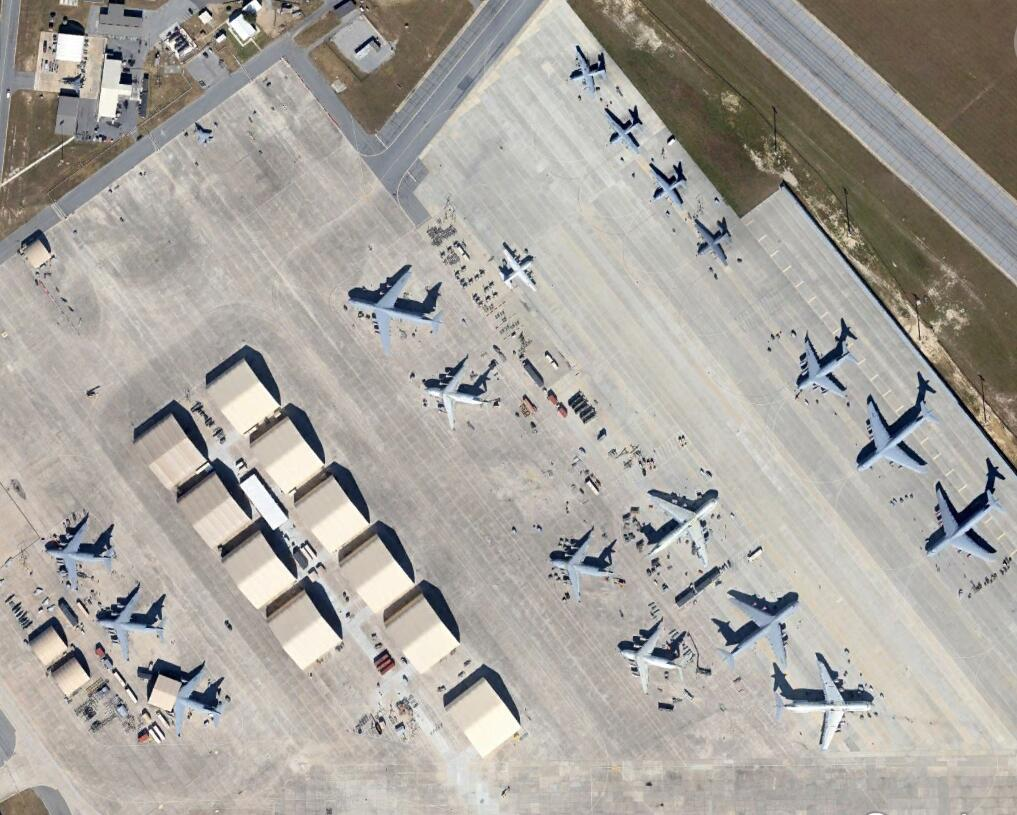A13: (56, 73, 86, 94), (193, 121, 215, 146)
A2: (568, 45, 610, 101), (691, 216, 734, 269), (497, 243, 538, 293), (603, 106, 646, 153), (647, 166, 690, 207)
A3: (98, 588, 167, 663), (45, 520, 117, 591), (422, 362, 495, 429), (550, 529, 617, 601), (619, 623, 682, 688), (795, 336, 855, 398)
A4: (777, 652, 878, 752), (348, 269, 447, 353), (641, 490, 724, 574), (717, 594, 803, 668), (856, 398, 938, 475), (927, 486, 1004, 566)
